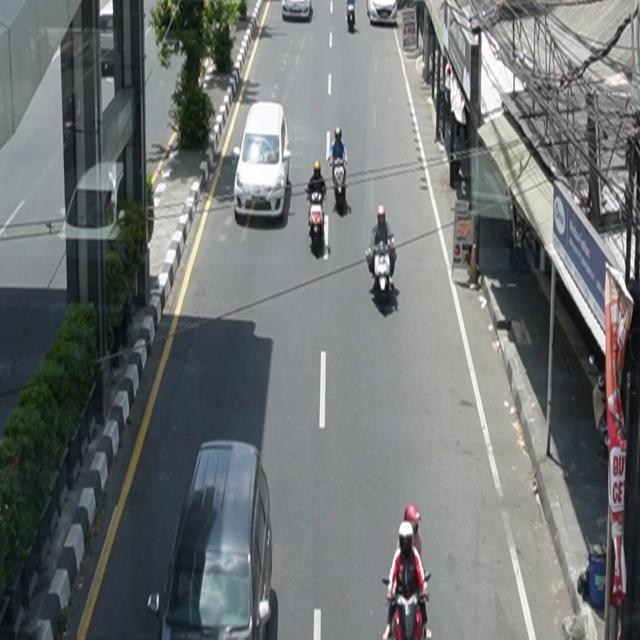car: (148, 439, 274, 640), (234, 101, 292, 222), (366, 1, 398, 26), (282, 1, 313, 21)
